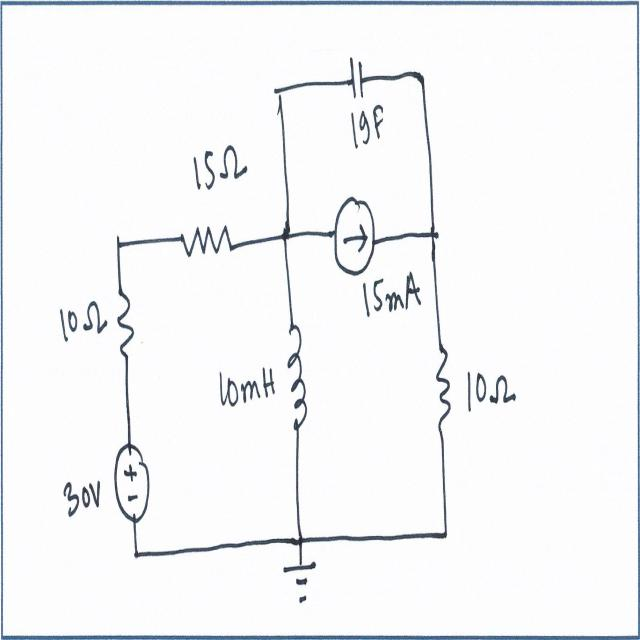capacitor: (349, 52, 367, 104)
current_source: (333, 192, 376, 278)
ground: (282, 556, 318, 612)
inductor: (286, 322, 309, 430)
resistor: (180, 218, 233, 263), (113, 292, 135, 368), (436, 342, 454, 428)
voltage_source: (114, 438, 150, 522)
